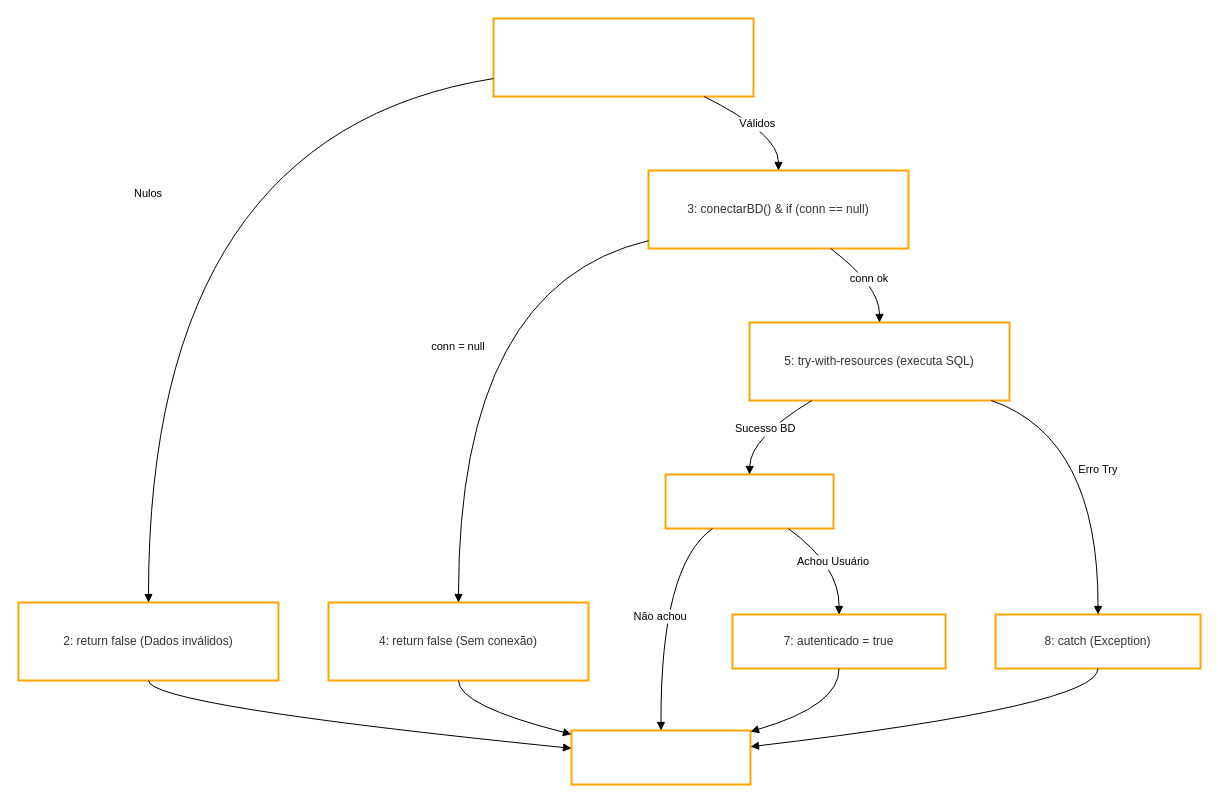
Some shapes in this 1218 by 802 pixel diagram are drawn without their labels. The centre of each missing label's shape, as x and y in pixels:
1: Início e validação (login/senha): [623,57]
6: if (rs.next()): [749,501]
9: Fim / Retorno: [660,757]
